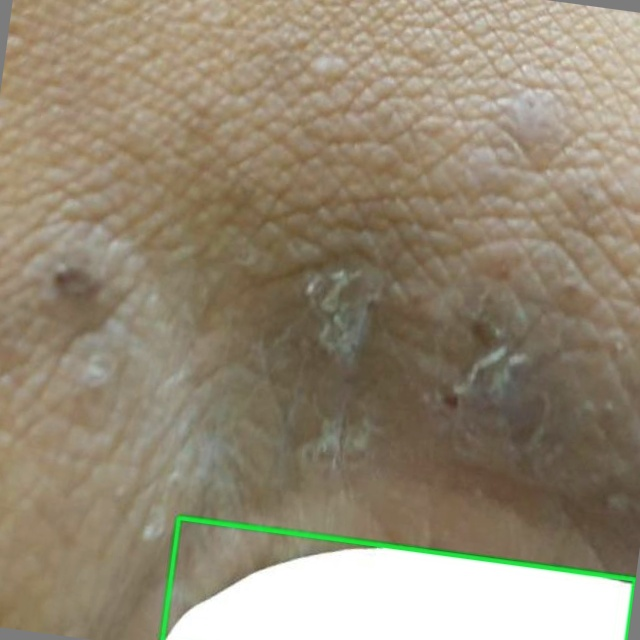Scabies: (162, 517, 635, 639)
